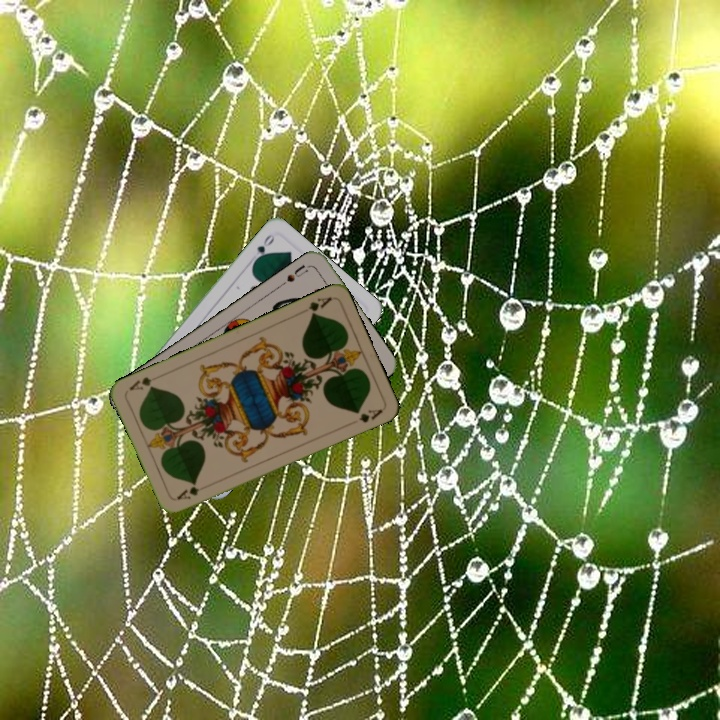GA: (304, 293, 334, 319), (173, 482, 202, 503)
GO: (246, 230, 277, 266)
SU: (277, 260, 310, 289)
